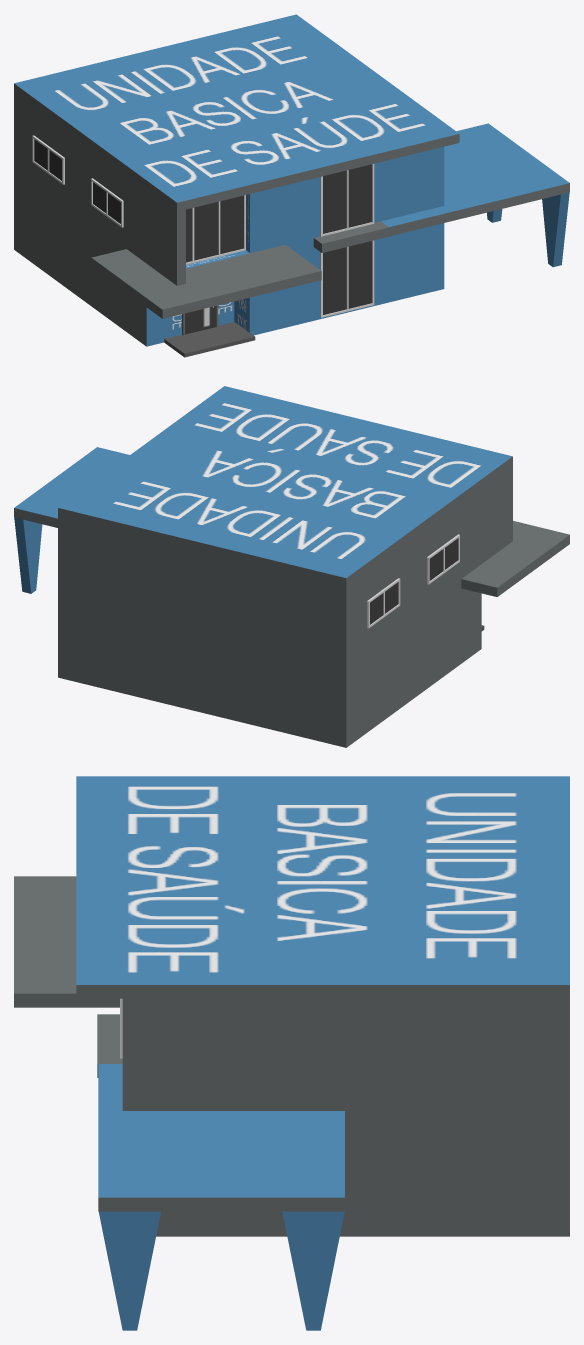
The model's file is Building_House_04_color01.fbx.
3 renders of one model, top to bottom at view 1: azimuth 30°, elevation 25°; view 2: azimuth 150°, elevation 25°; view 3: azimuth 270°, elevation 25°, orthographic. The views are drawn at different scales.
Visible parts, largest first — view 1: Building_House_04_color01; view 2: Building_House_04_color01; view 3: Building_House_04_color01.
Part boxes in pixels (bbox=[...]): Building_House_04_color01: bbox=[14, 14, 569, 357]; Building_House_04_color01: bbox=[14, 386, 569, 747]; Building_House_04_color01: bbox=[14, 776, 569, 1330].
Size of the model in its own units: 825 by 310 by 603.
1 material, 1 textured.
